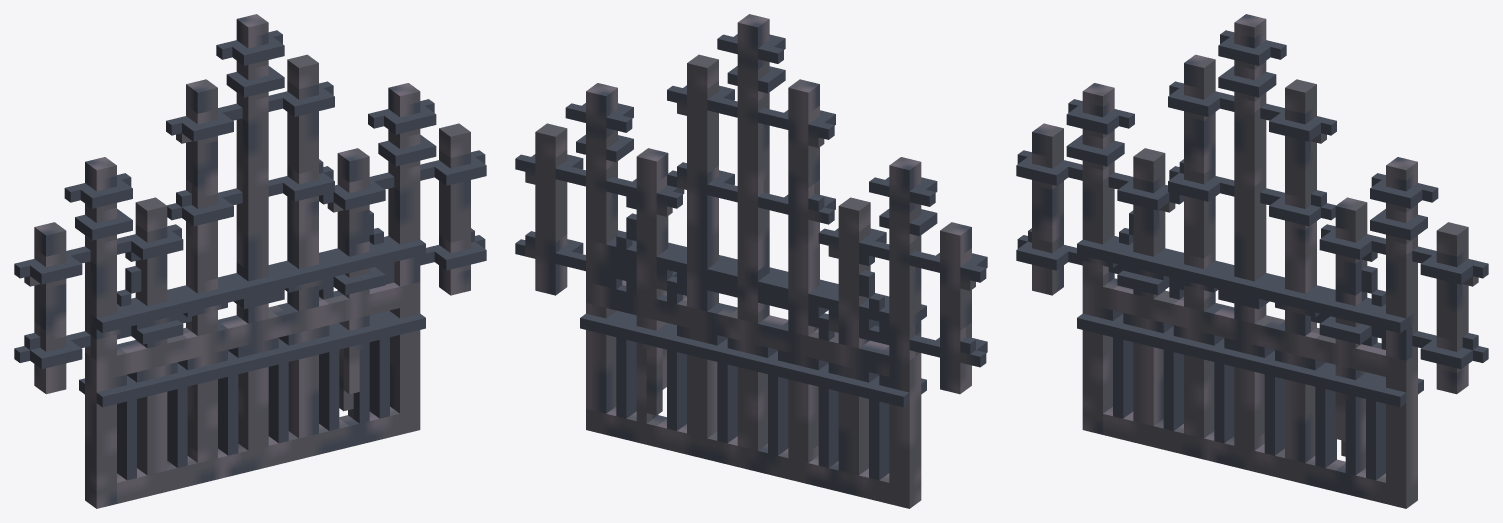
The model's file is FenceModule-3.fbx.
The picture shows the model from 3 angles, left to right: view 1: azimuth 30°, elevation 25°; view 2: azimuth 150°, elevation 25°; view 3: azimuth 330°, elevation 25°; orthographic projection.
Parts seen in each view (by area): view 1: FenceModule-3; view 2: FenceModule-3; view 3: FenceModule-3.
Part boxes in pixels (box(x1,y1,x2,y2)): FenceModule-3: box(14, 14, 486, 508); FenceModule-3: box(515, 14, 987, 508); FenceModule-3: box(1016, 14, 1488, 508).
Size of the model in its own units: 230 by 210 by 20.
